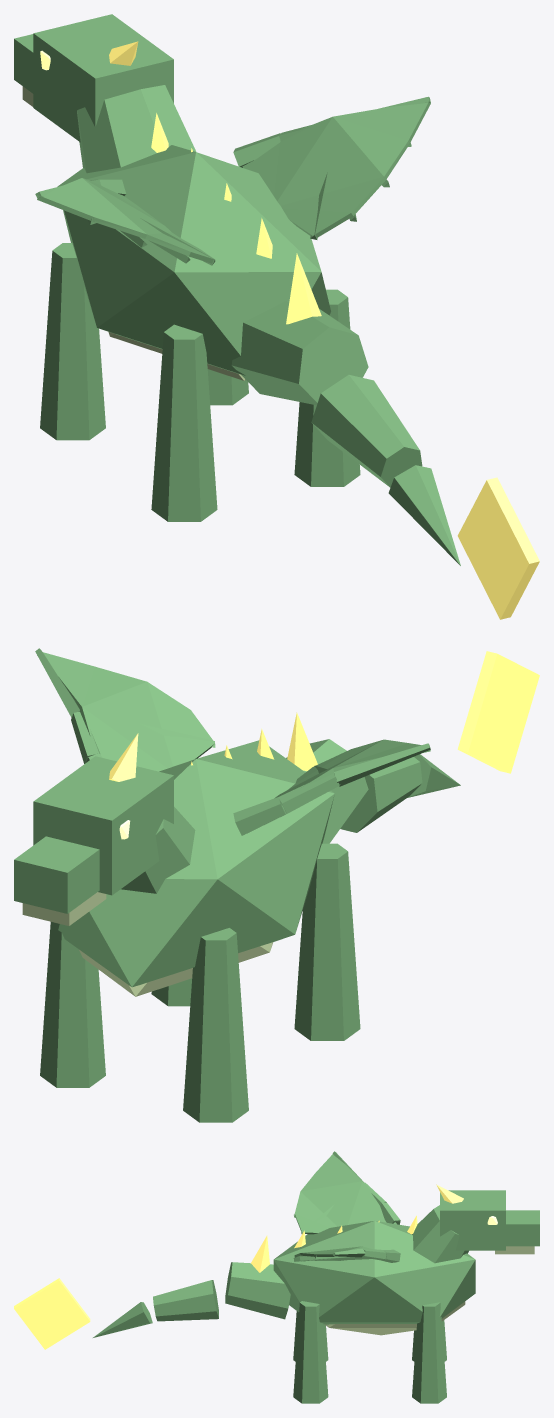
File: dragon_hatchling.glb
3 renders of one model, top to bottom at view 1: azimuth 30°, elevation 25°; view 2: azimuth 150°, elevation 25°; view 3: azimuth 270°, elevation 25°, orthographic. The views are drawn at different scales.
Visible parts, largest first — view 1: DragonBody; view 2: DragonBody; view 3: DragonBody.
Part boxes in pixels (left/top/right/bottom): DragonBody: left=14, top=14, right=539, bottom=619; DragonBody: left=14, top=648, right=539, bottom=1122; DragonBody: left=14, top=1151, right=539, bottom=1403.
Bounding box in the file's own units: 1.59 × 1.4 × 3.44.
